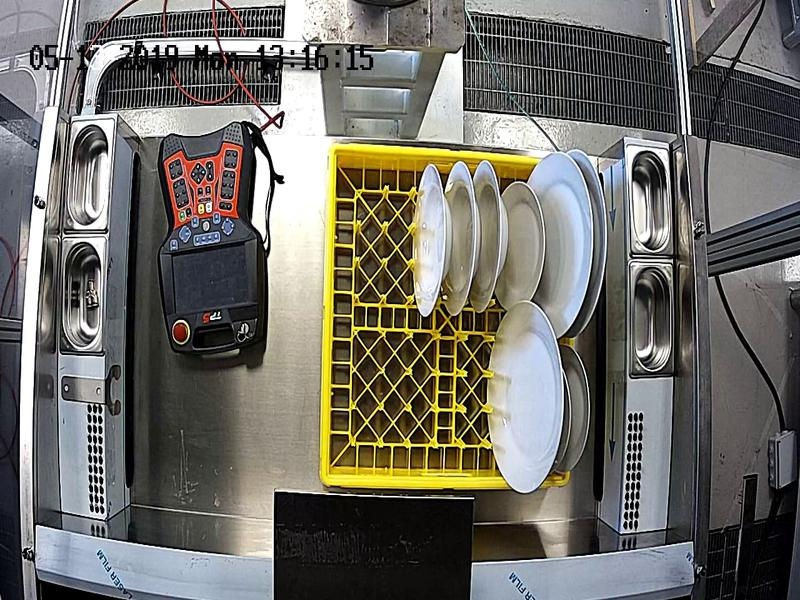Dish: (485, 300, 561, 495), (544, 155, 592, 342), (413, 163, 454, 320), (583, 145, 611, 348), (507, 181, 549, 309), (479, 159, 509, 321), (451, 160, 480, 320), (570, 345, 591, 474), (561, 376, 573, 470)
